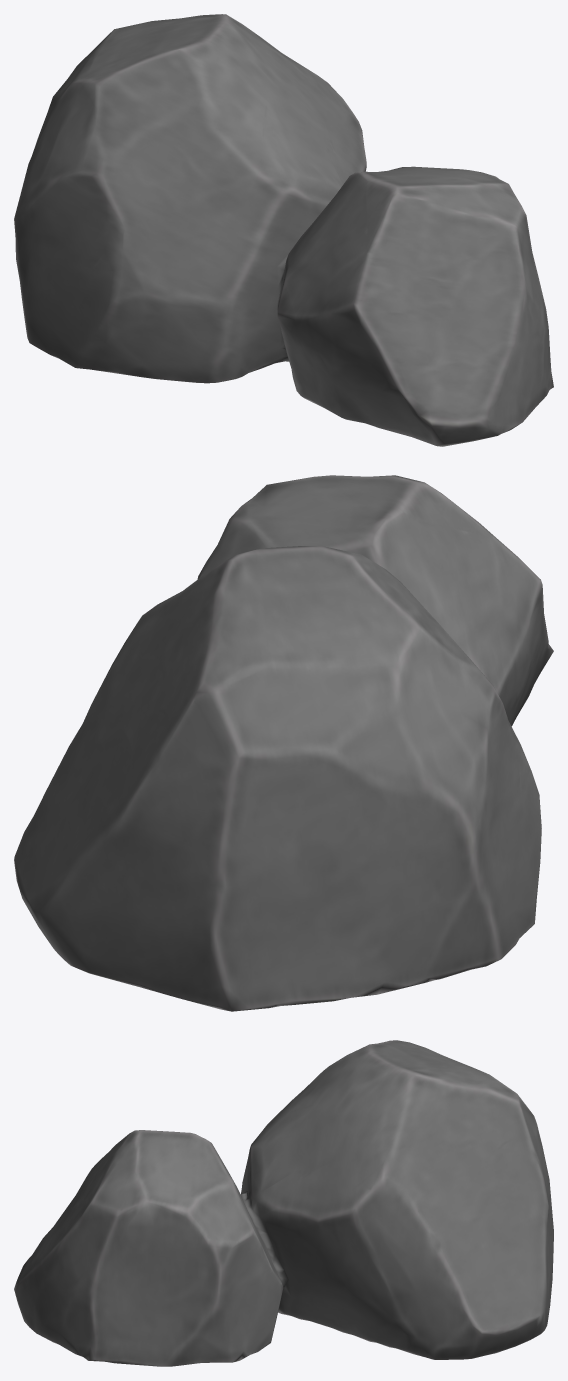
Rendered from rock.obj.
3 views of the same model, one above another, from view 1: azimuth 30°, elevation 25°; view 2: azimuth 150°, elevation 25°; view 3: azimuth 270°, elevation 25° (orthographic). The views are drawn at different scales.
Parts seen in each view (by area): view 1: stylized_rocks; view 2: stylized_rocks; view 3: stylized_rocks.
Part boxes in pixels (x1,y1,x2,y2): stylized_rocks: (14,14,553,446); stylized_rocks: (14,475,553,1011); stylized_rocks: (14,1040,553,1366).
Size of the model in its own units: 2.16 by 1.66 by 3.36.
